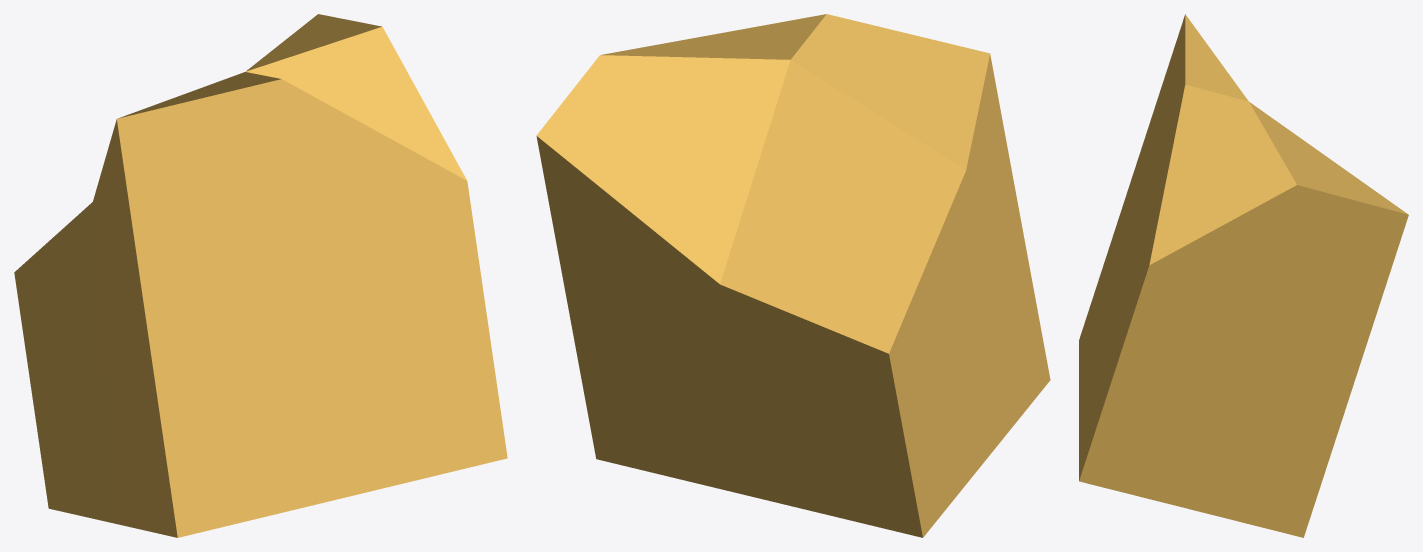
File: Boat skeleton broken column11.fbx
3 renders of one model, left to right at view 1: azimuth 30°, elevation 25°; view 2: azimuth 150°, elevation 25°; view 3: azimuth 270°, elevation 25°, orthographic. The views are drawn at different scales.
Visible parts, largest first — view 1: Broken columns.010; view 2: Broken columns.010; view 3: Broken columns.010.
Boxes of the visible parts, x1,y1,x2,y2 form: Broken columns.010: (14, 14, 507, 537); Broken columns.010: (536, 14, 1050, 537); Broken columns.010: (1079, 14, 1408, 537).
Size of the model in its own units: 4.3 by 5.49 by 4.27.
